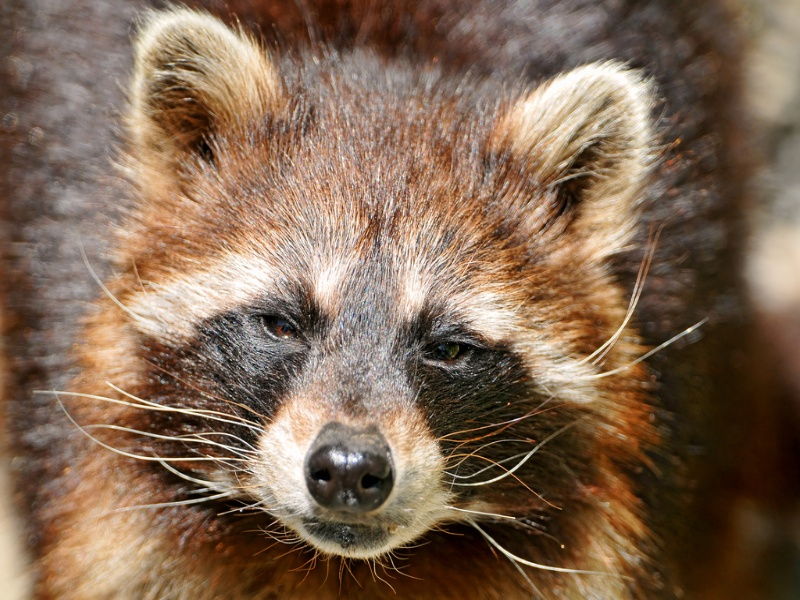raccoon: (12, 22, 732, 581)
